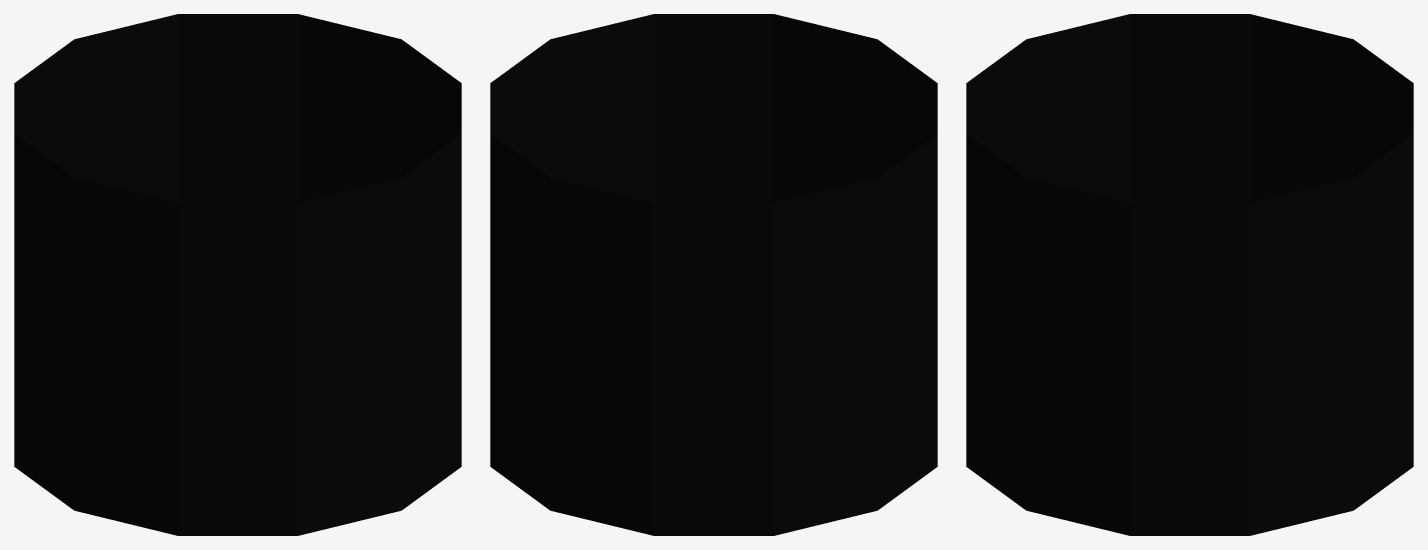
Rendered from teleporterGlow.fbx.
The picture shows the model from 3 angles, left to right: view 1: azimuth 30°, elevation 25°; view 2: azimuth 150°, elevation 25°; view 3: azimuth 270°, elevation 25°; orthographic projection.
Visible parts, largest first — view 1: teleporterGlow; view 2: teleporterGlow; view 3: teleporterGlow.
Part boxes in pixels (box(x1,y1,x2,y2)): teleporterGlow: box(14, 14, 461, 535); teleporterGlow: box(490, 14, 937, 535); teleporterGlow: box(966, 14, 1413, 535).
Bounding box in the file's own units: 122 × 100 × 122.
